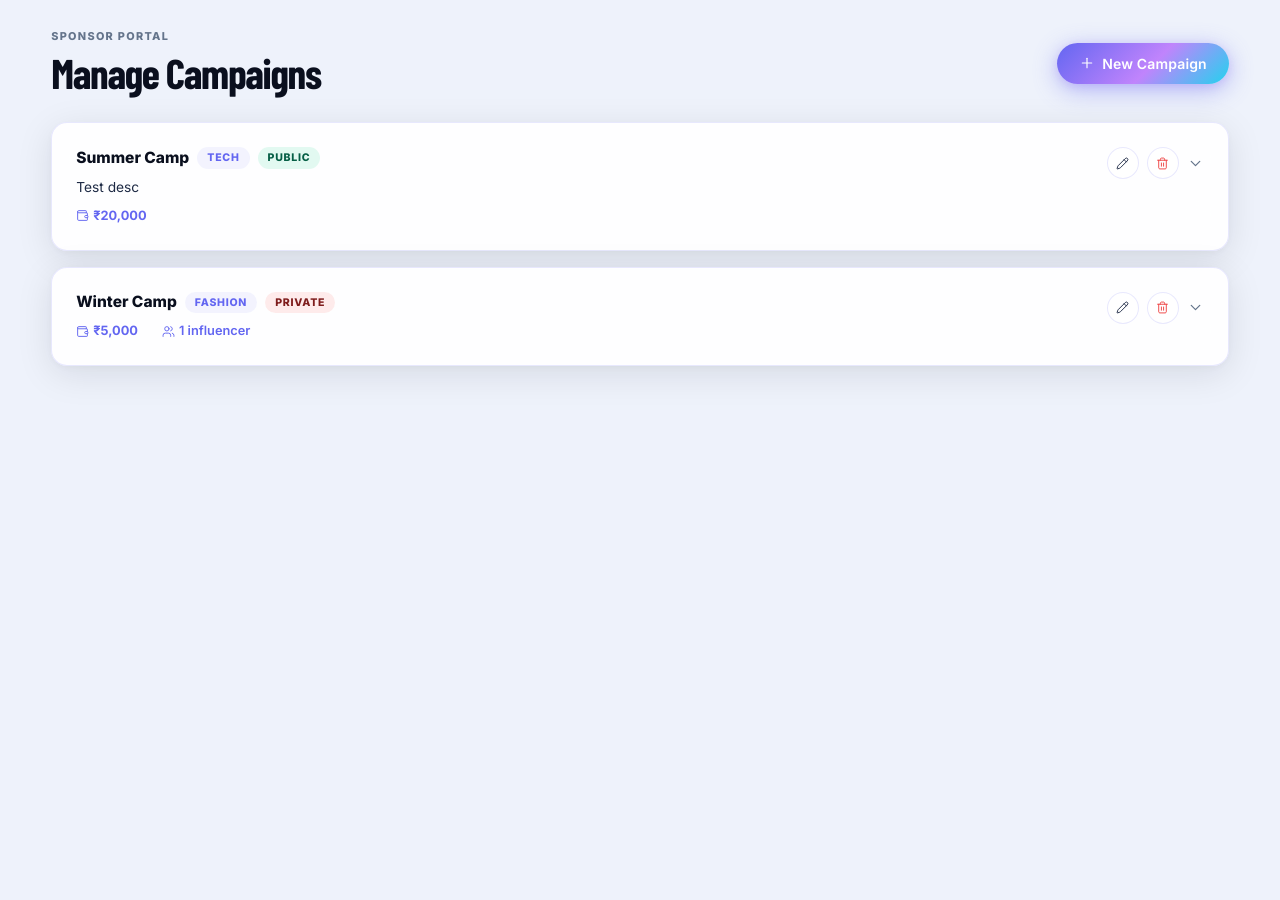
it: Campaigns › opens edit form with campaign data when edit button clicked
Expected: the heading "Summer Camp" is shown, x1=76 y1=149 x2=189 y2=167
// Find the pencil icon button (first of the pair per campaign card)
Click the 2nd button.
click(1123, 163)  # box x1=1107 y1=147 x2=1139 y2=179
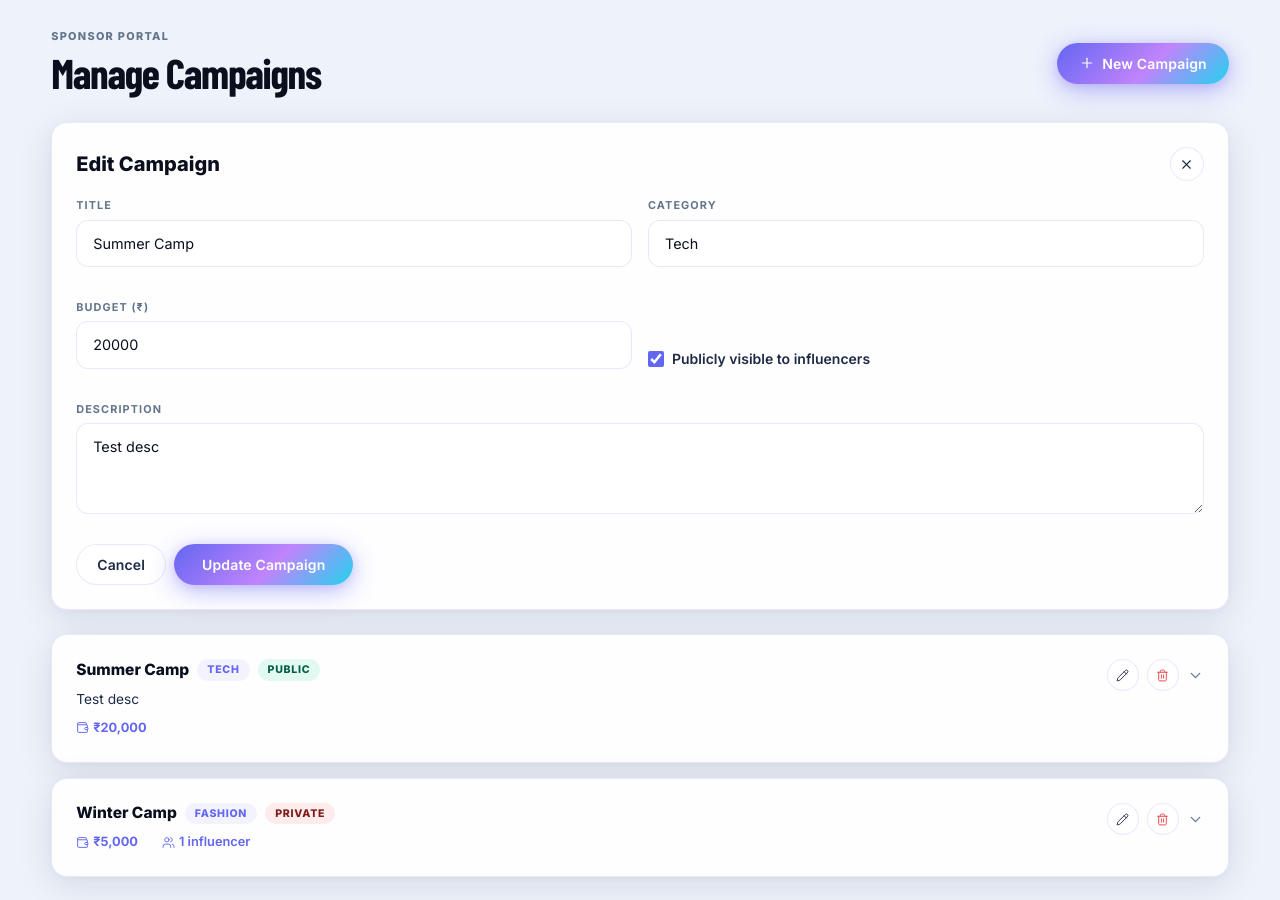
Now the field with placeholder "Campaign Title" below "Title" holds "Summer Camp", box x1=76 y1=220 x2=632 y2=267
